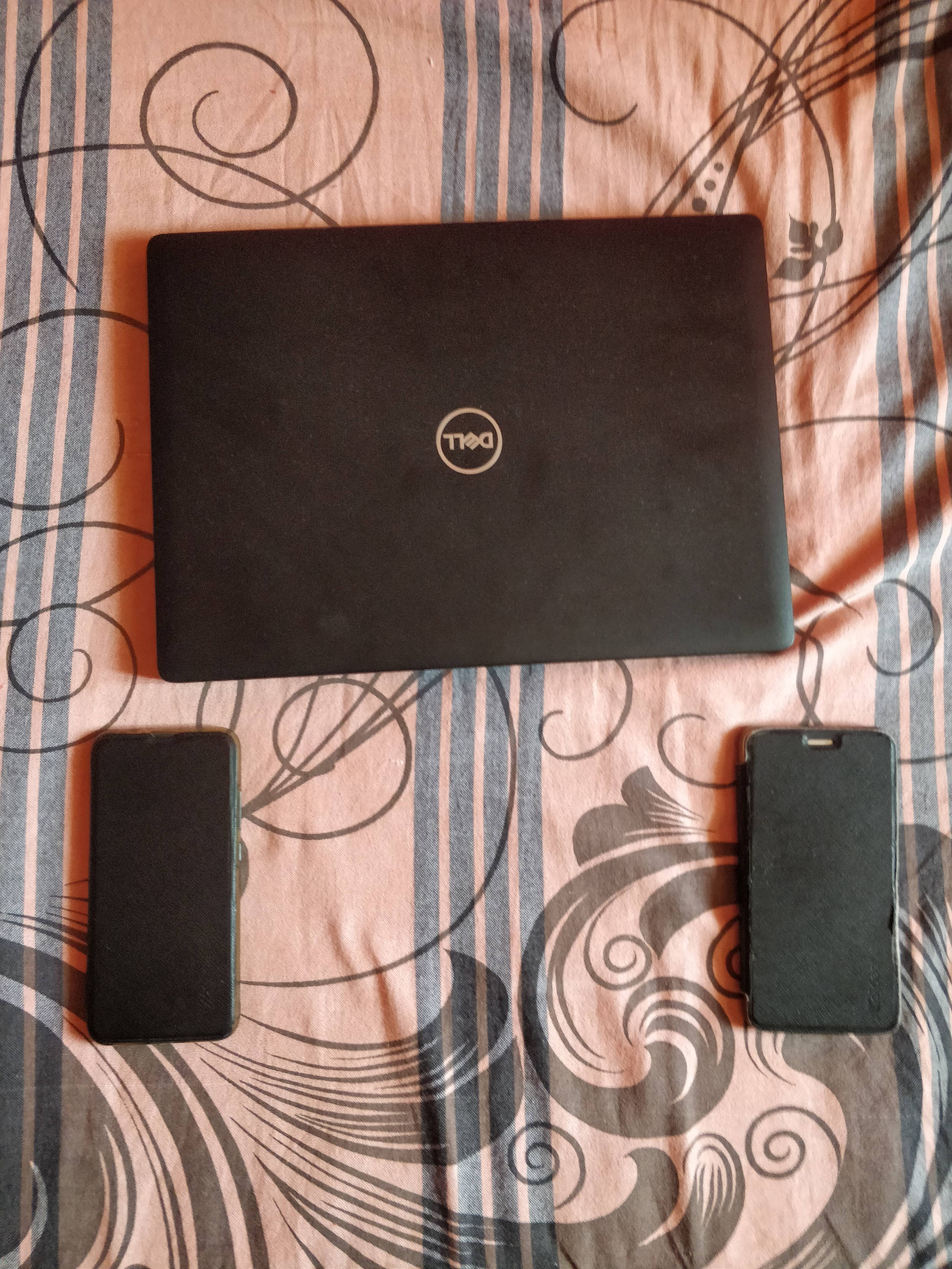Electronics: (113, 182, 854, 693), (703, 701, 929, 1077), (58, 709, 278, 1069)
